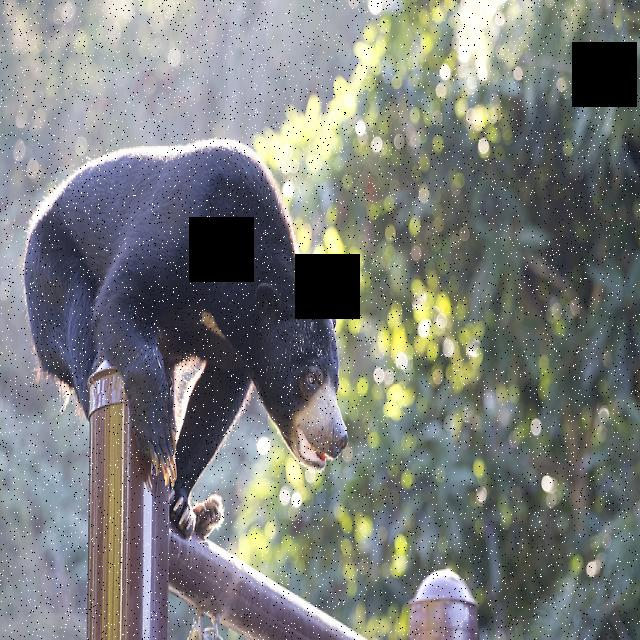Bear: (24, 130, 353, 480)
